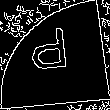P_S: (32, 28, 78, 82)
